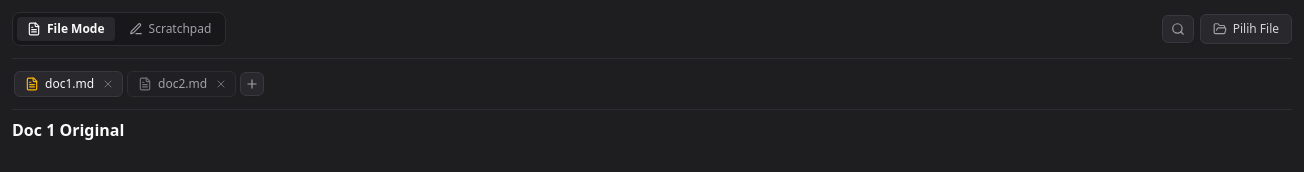
Test case: NotesPanel Component › 14. background notesUpdate for non-active tab updates its cached content without switching active tab
Expected: the heading "Doc 1 Original" is shown, [12,119,124,141]
// Sekarang beralih ke doc2.md
Click the tab "doc2.md" at point(182, 84), box [127,71,236,97]
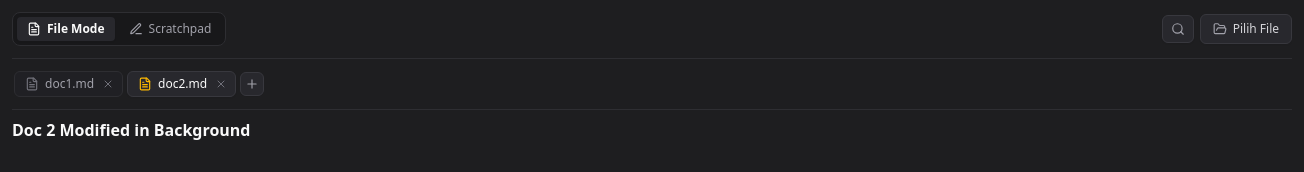
Result: the heading "Doc 2 Modified in Background" is shown at [12,119,250,141]
